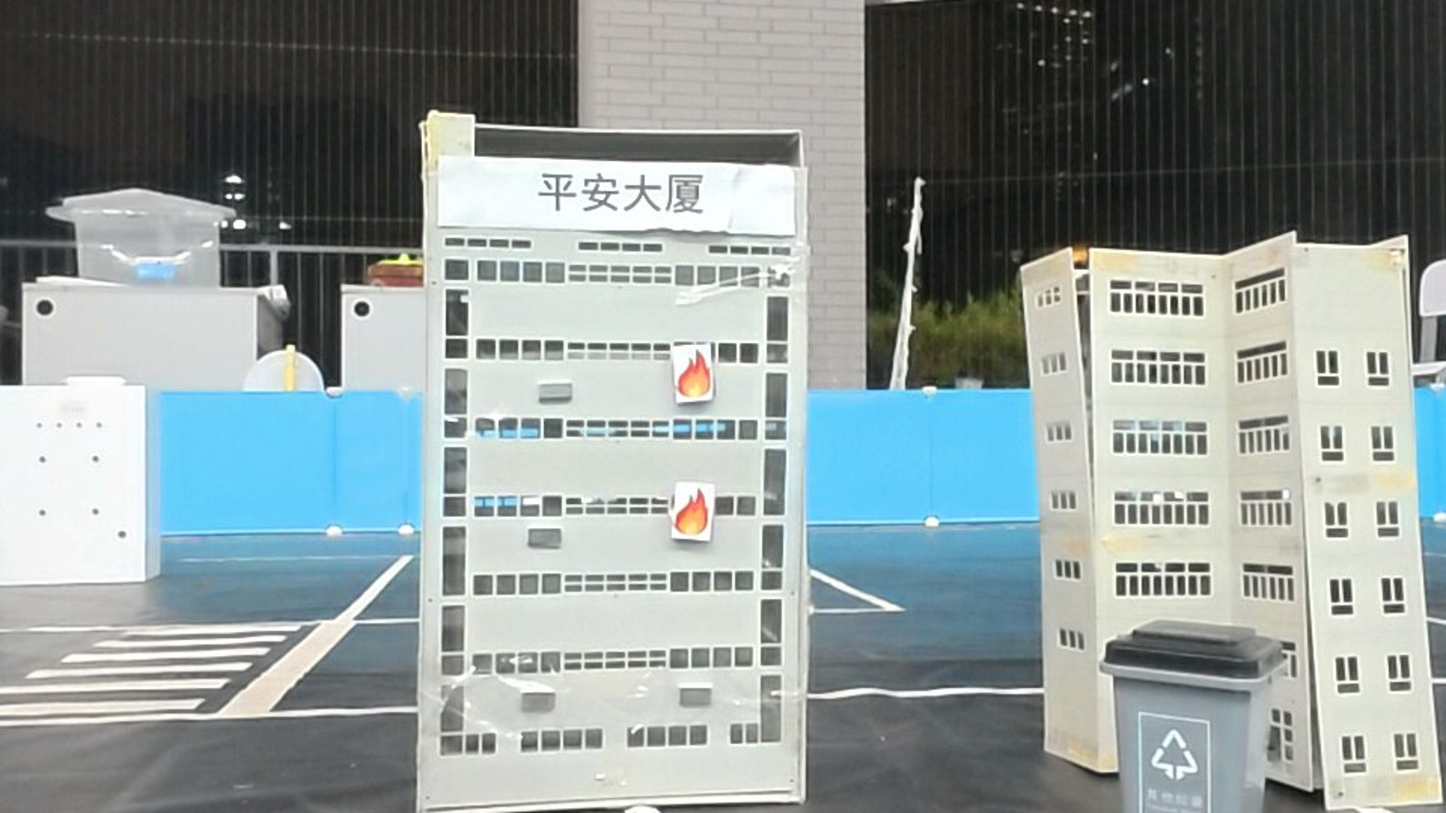fire: (674, 346, 717, 404), (673, 483, 715, 539)
